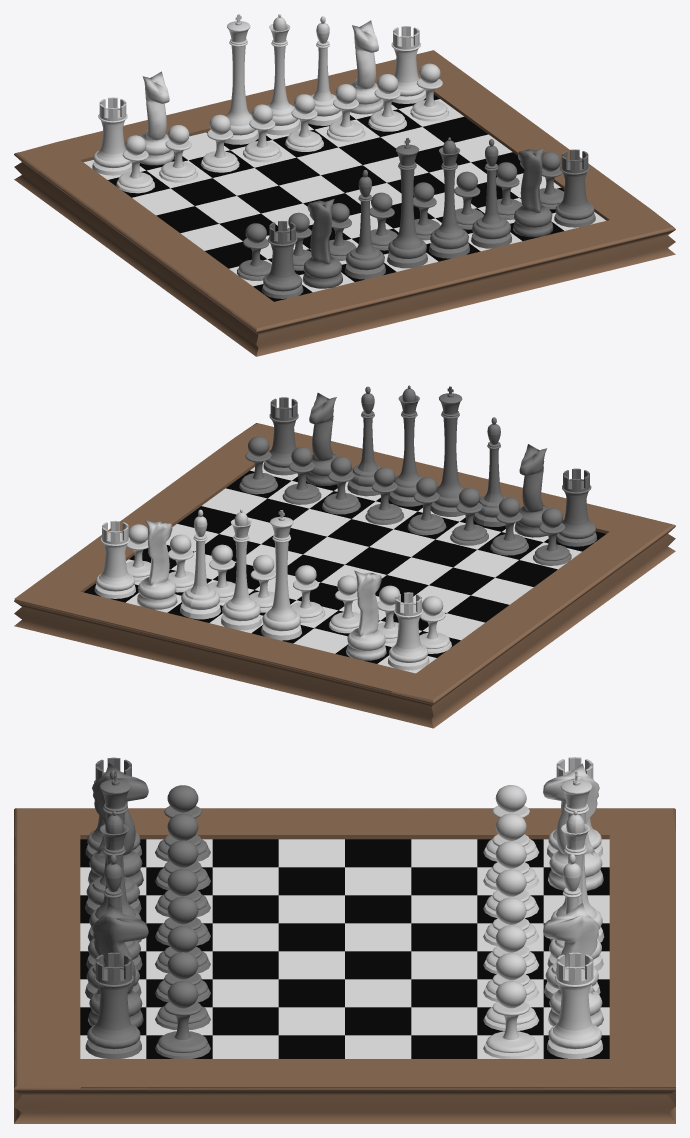
Rendered from Chess Set.fbx.
3 views of the same model, one above another, from view 1: azimuth 30°, elevation 25°; view 2: azimuth 150°, elevation 25°; view 3: azimuth 270°, elevation 25° (orthographic). The views are drawn at different scales.
Visible parts, largest first — view 1: polySurface4, King1, knight010, knight011, Queen1, King, Rook2, Rook3, Rook, knight08, knight09, Bishop3 (+20 smaller); view 2: polySurface4, King, knight08, knight09, Queen, King1, Rook1, Rook, Rook3, knight010, Bishop1, Queen1 (+20 smaller); view 3: polySurface4, Rook1, Rook2, knight011, knight09, knight08, Pawn8, Pawn9, knight010, King1, Queen, Pawn10 (+20 smaller).
Part boxes in pixels (<box>): polySurface4: <box>14,50,675,356</box>; King1: <box>387,138,427,268</box>; knight010: <box>302,199,342,288</box>; knight011: <box>513,147,553,237</box>; Queen1: <box>429,137,469,258</box>; King: <box>224,14,258,144</box>; Rook2: <box>554,149,595,227</box>; Rook3: <box>262,221,303,298</box>; Rook: <box>92,97,131,175</box>; knight08: <box>140,71,174,165</box>; knight09: <box>350,20,383,114</box>; Bishop3: <box>471,139,511,248</box>; polySurface4: <box>14,423,675,728</box>; King: <box>261,510,301,640</box>; knight08: <box>346,570,386,660</box>; knight09: <box>137,519,177,609</box>; Queen: <box>221,509,261,630</box>; King1: <box>430,386,464,516</box>; Rook1: <box>94,520,135,598</box>; Rook: <box>388,592,429,670</box>; Rook3: <box>556,468,596,546</box>; knight010: <box>514,444,549,537</box>; Bishop1: <box>180,509,220,619</box>; Queen1: <box>388,385,422,506</box>; polySurface4: <box>14,808,675,1123</box>; Rook1: <box>547,952,602,1058</box>; Rook2: <box>85,952,141,1058</box>; knight011: <box>88,903,148,1027</box>; knight09: <box>543,903,603,1026</box>; knight08: <box>543,763,603,890</box>; Pawn8: <box>483,981,539,1058</box>; Pawn9: <box>155,981,210,1058</box>; knight010: <box>88,763,148,886</box>; King1: <box>88,770,141,942</box>; Queen: <box>547,810,603,970</box>; Pawn10: <box>155,952,210,1029</box>.
Bounding box in the file's own units: 30.08 × 9.96 × 30.08.
